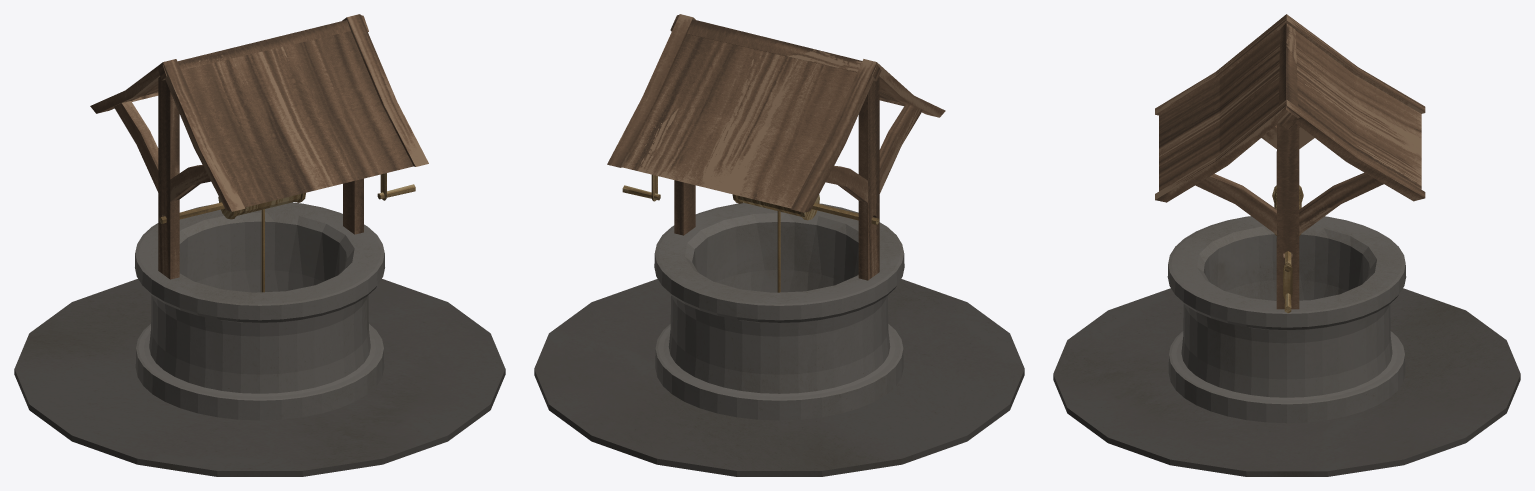
File: ShuiJing04.fbx
3 views of the same model, side by side, from view 1: azimuth 30°, elevation 25°; view 2: azimuth 150°, elevation 25°; view 3: azimuth 270°, elevation 25° (orthographic). The views are drawn at different scales.
Parts seen in each view (by area): view 1: ShuiJing04; view 2: ShuiJing04; view 3: ShuiJing04.
Part boxes in pixels (x1,y1,x2,y2): ShuiJing04: [14, 14, 505, 476]; ShuiJing04: [534, 14, 1024, 476]; ShuiJing04: [1053, 14, 1520, 476].
Size of the model in its own units: 195 by 150 by 198.
